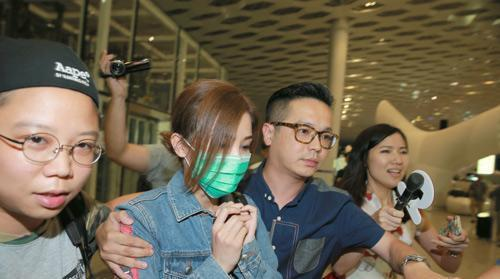NONE: (1, 120, 104, 218), (278, 117, 334, 178), (373, 143, 410, 186)
OK: (194, 133, 253, 195)
